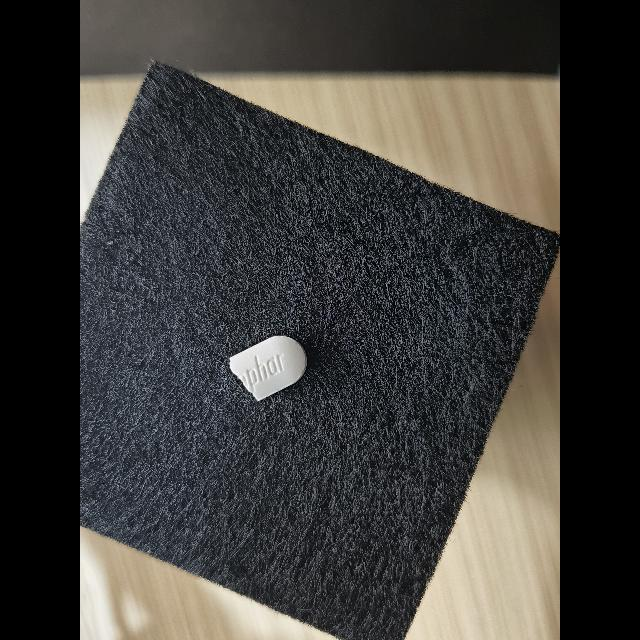Chipped Pill: (229, 336, 307, 402)
